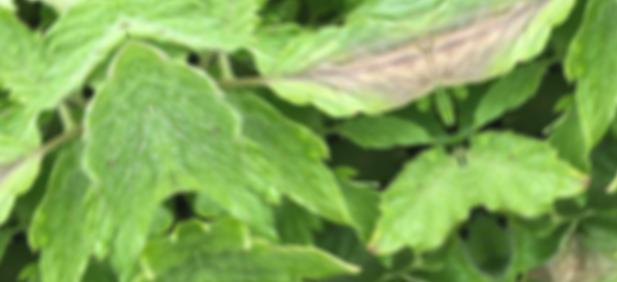Tomato mold leaf: (128, 11, 280, 265), (242, 0, 448, 165), (184, 166, 375, 282), (351, 132, 485, 264), (100, 0, 255, 105), (176, 0, 328, 74), (277, 262, 499, 282), (283, 0, 407, 20), (218, 275, 387, 282)
